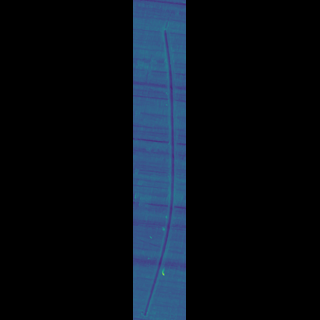Loch: (156, 6, 162, 317)
